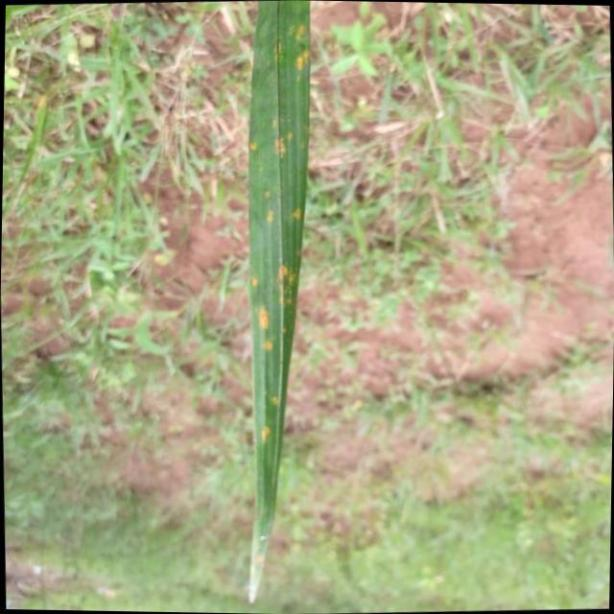Kalium: (246, 0, 315, 593)
